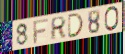8: (87, 10, 101, 35), (16, 22, 30, 46)
D: (67, 12, 86, 39)
F: (32, 17, 49, 44)
O: (104, 6, 120, 33)
R: (50, 15, 67, 41)
